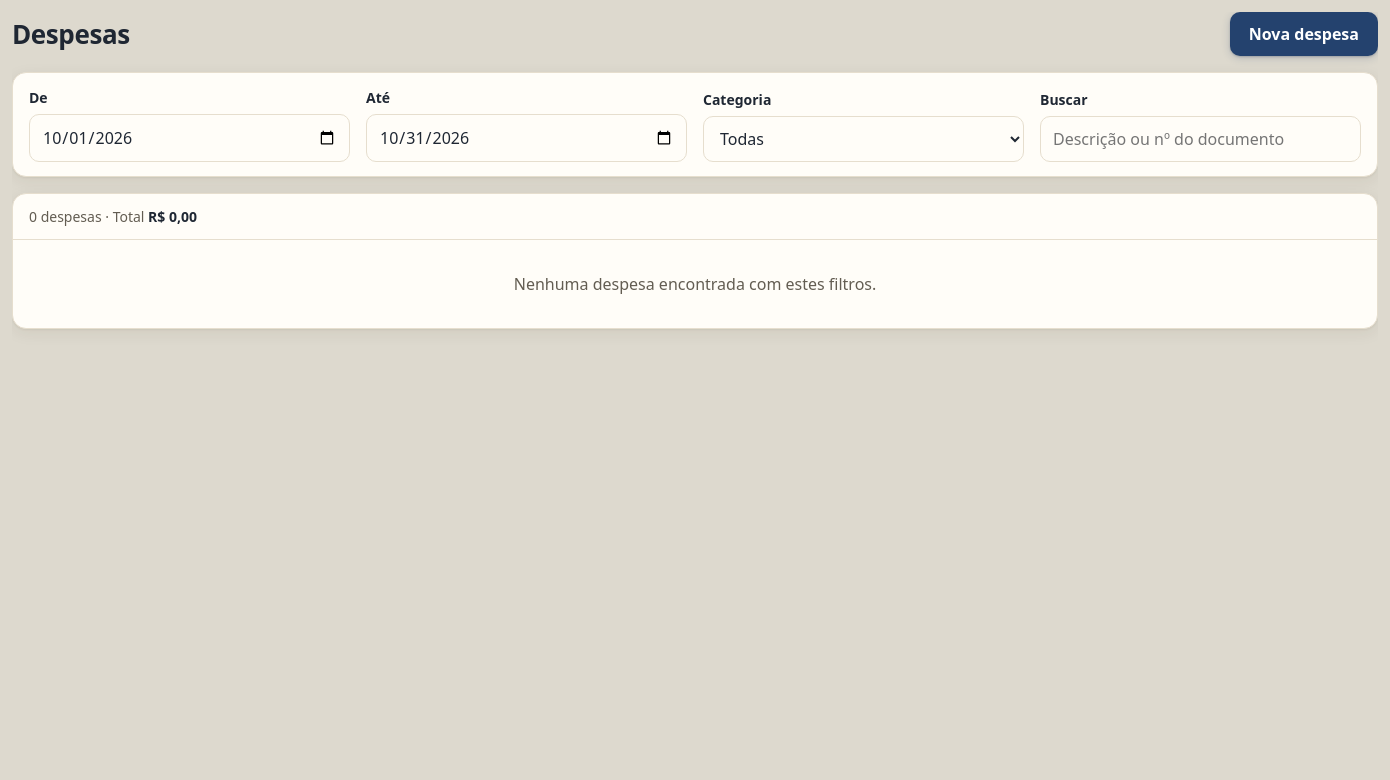
Test: Despesas › cadastra uma despesa convertendo o valor digitado
Click the button "Nova despesa".
click(1304, 34)  # box [1230, 12, 1378, 56]
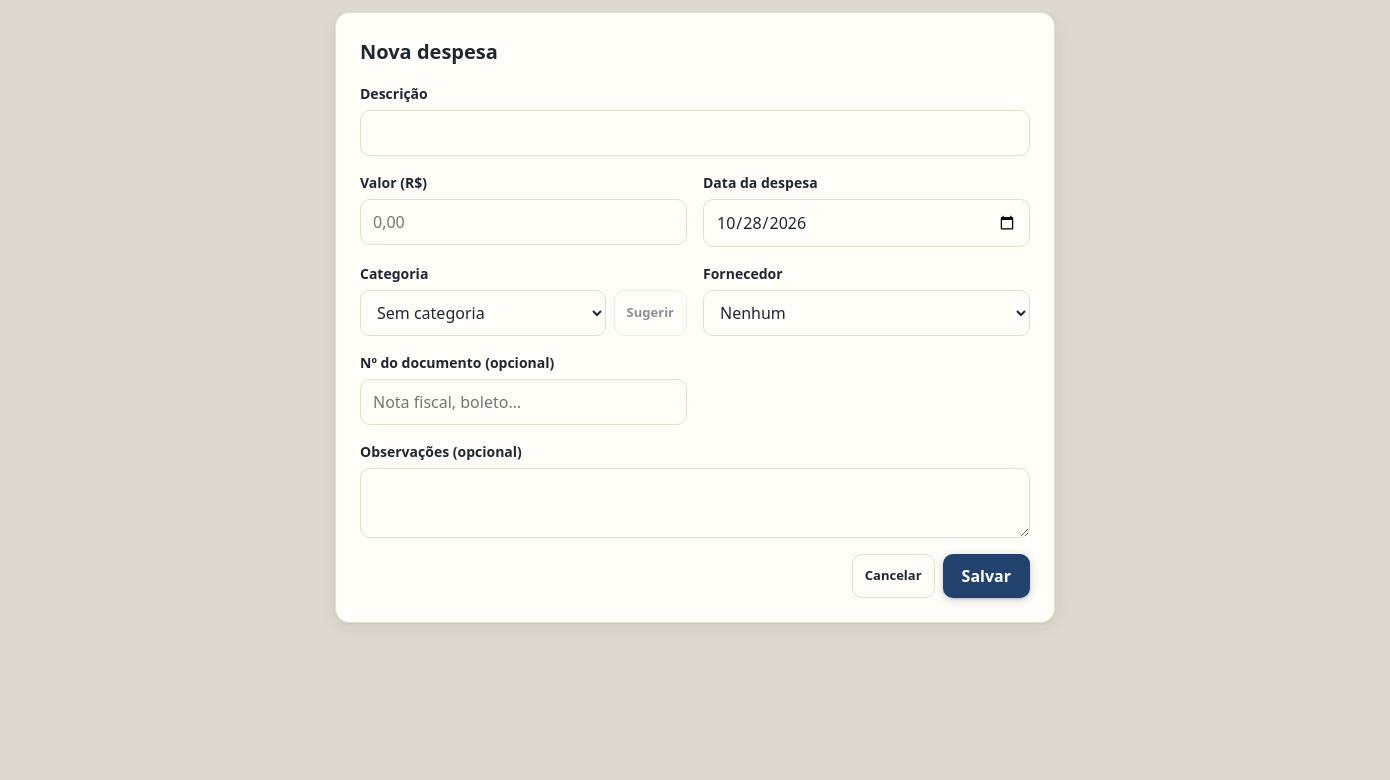
Type "Compra de legumes" into the field labelled "Descrição".
click(695, 133); type("Compra de legumes")  # box [360, 110, 1030, 156]
Type "1.234,5" into the field labelled "Valor (R$)".
click(524, 222); type("1.234,5")  # box [360, 199, 687, 245]
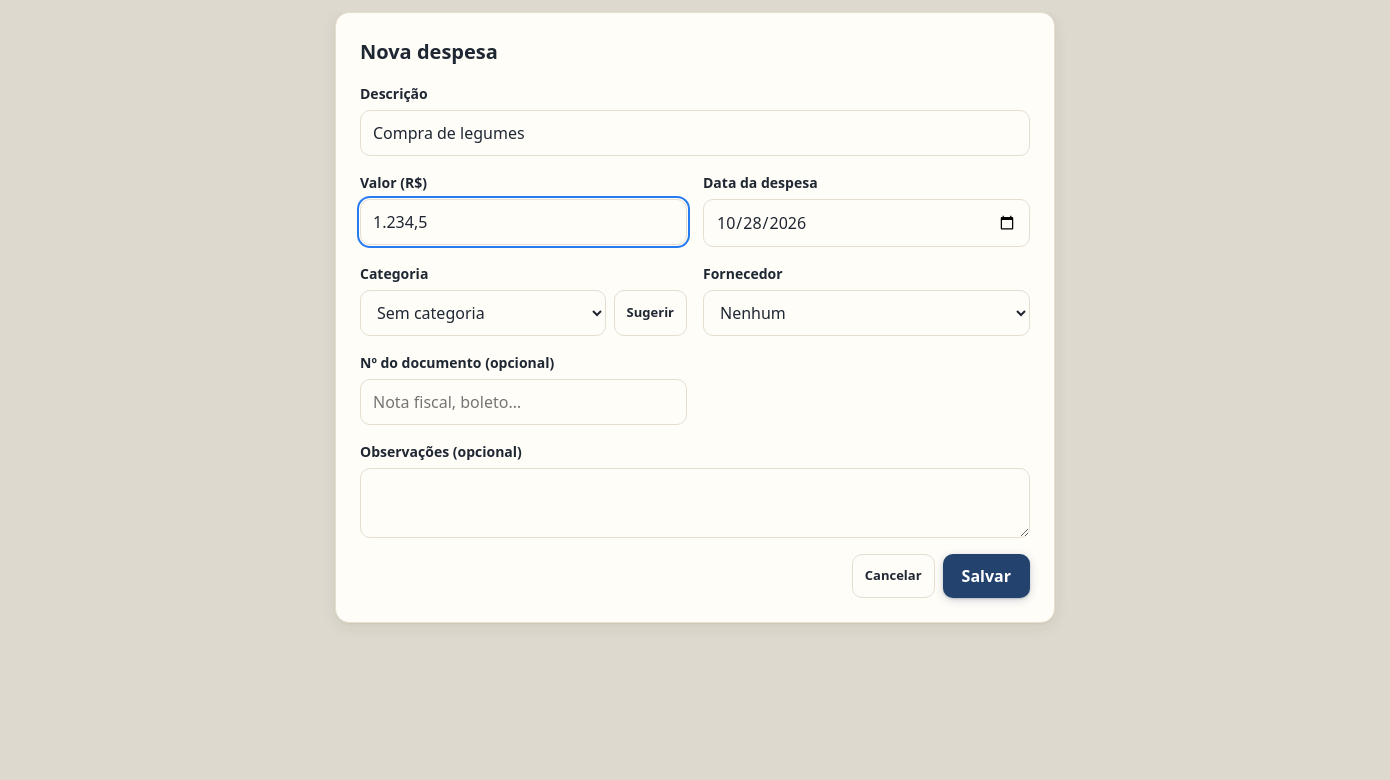
Type "2026-10-10" into the date field labelled "Data da despesa".
click(866, 223); type("2026-10-10")  # box [703, 199, 1030, 247]
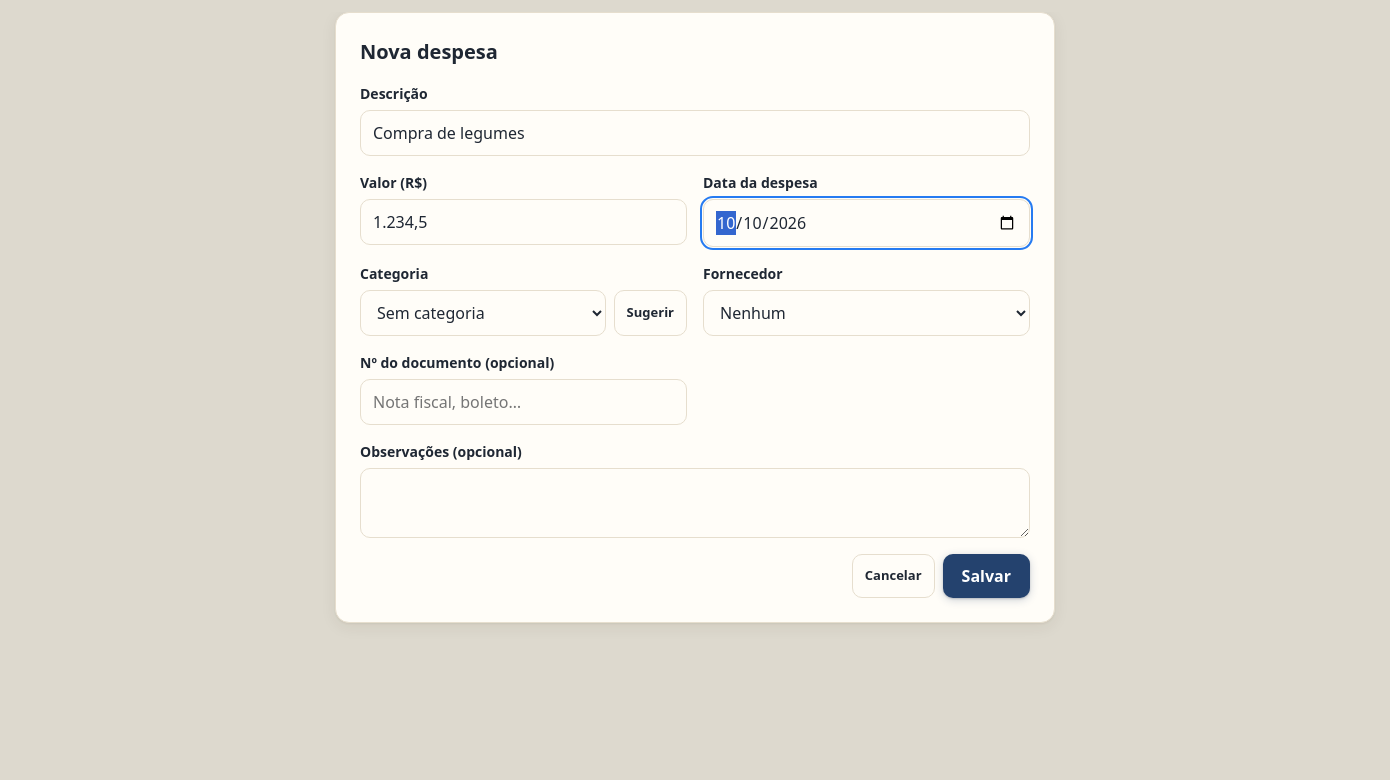
Select "Alimentos e insumos" in the dropdown labelled "Categoria" at (483, 313), box [360, 290, 606, 336]
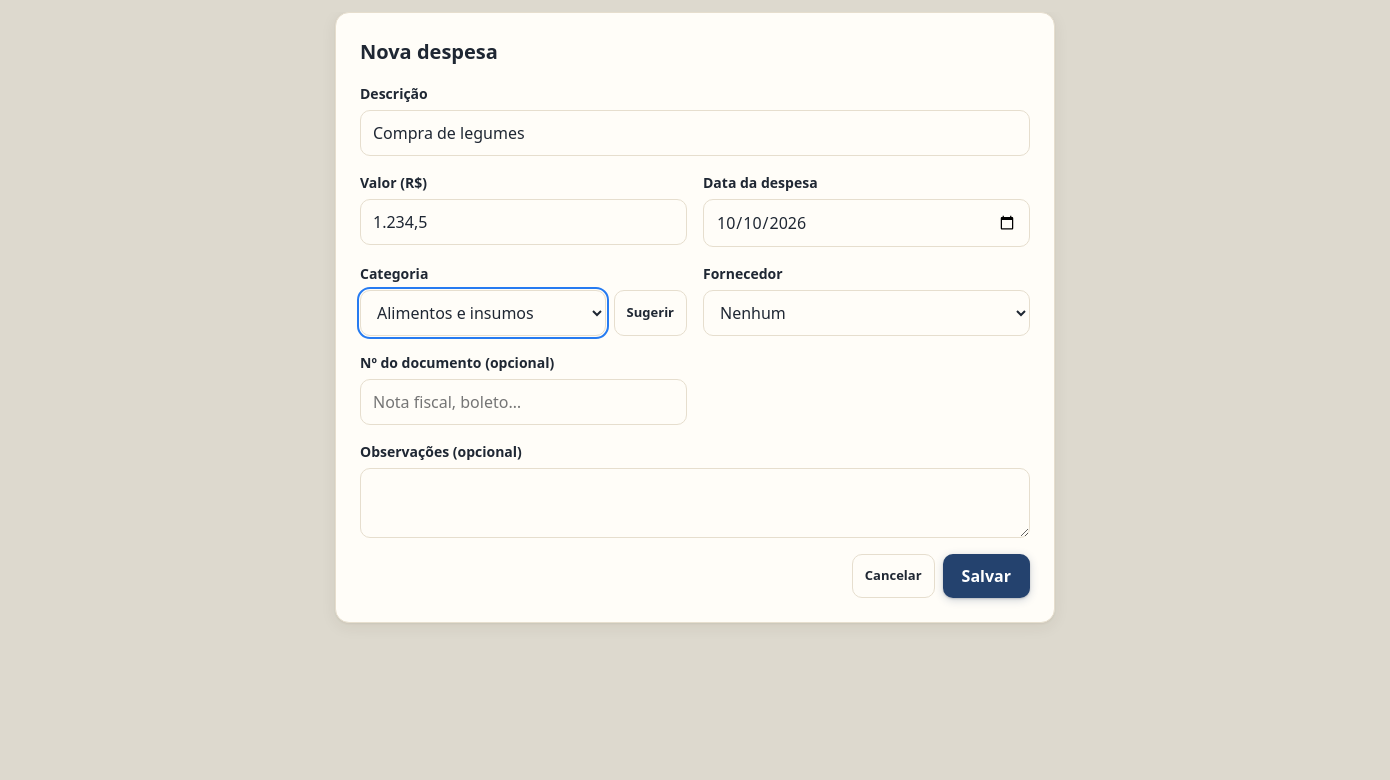
Select "Hortifruti Verde" in the dropdown labelled "Fornecedor" at (866, 313), box [703, 290, 1030, 336]
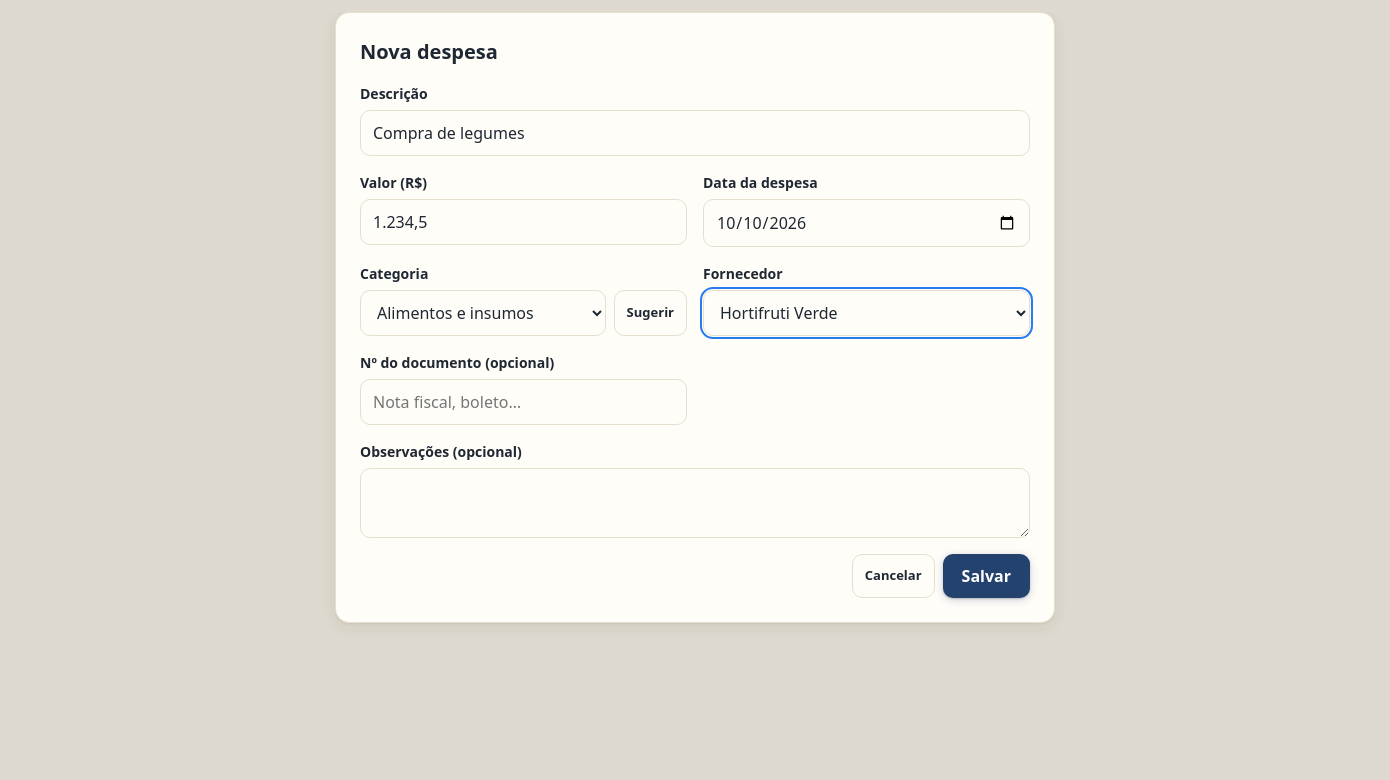
Click the button "Salvar".
click(986, 576)  # box [943, 554, 1030, 598]
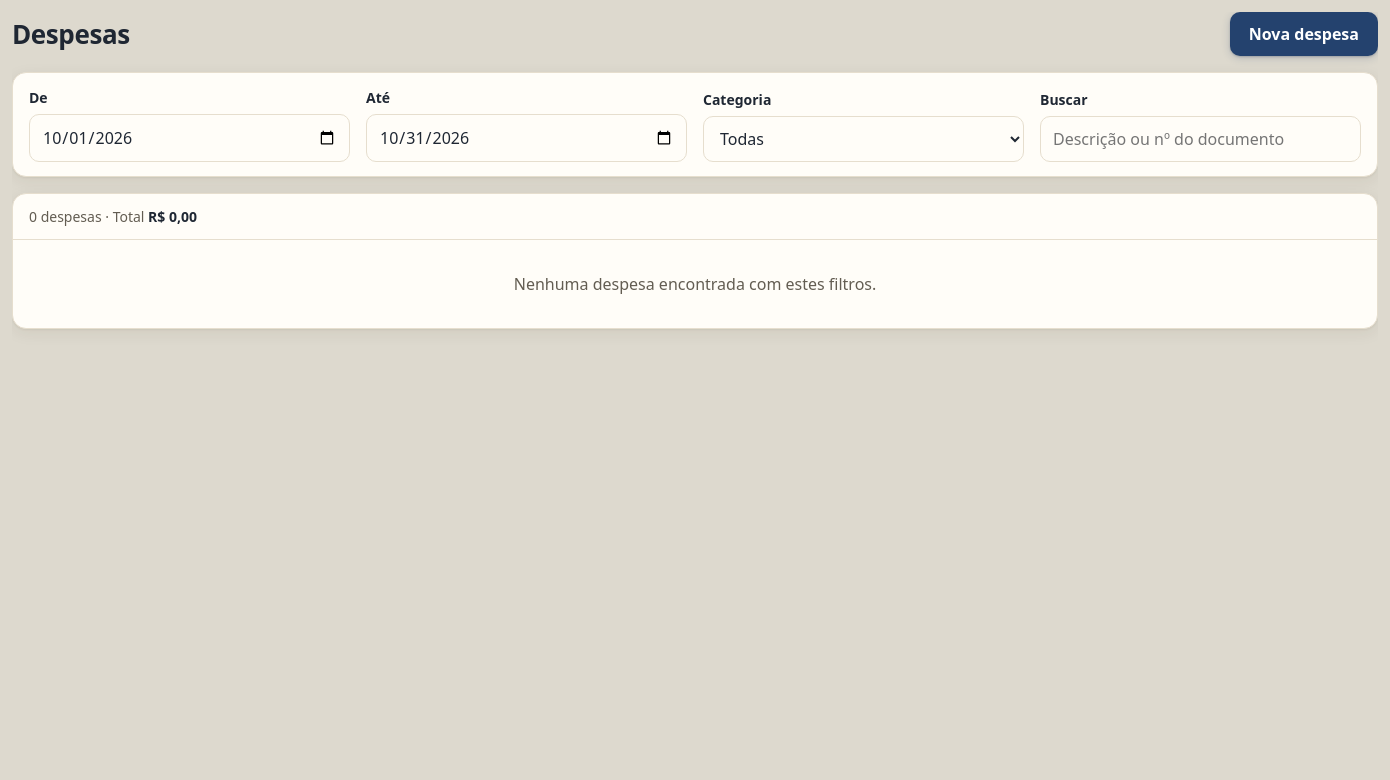
Result: the heading "Despesas" is shown at [12, 14, 130, 54]
